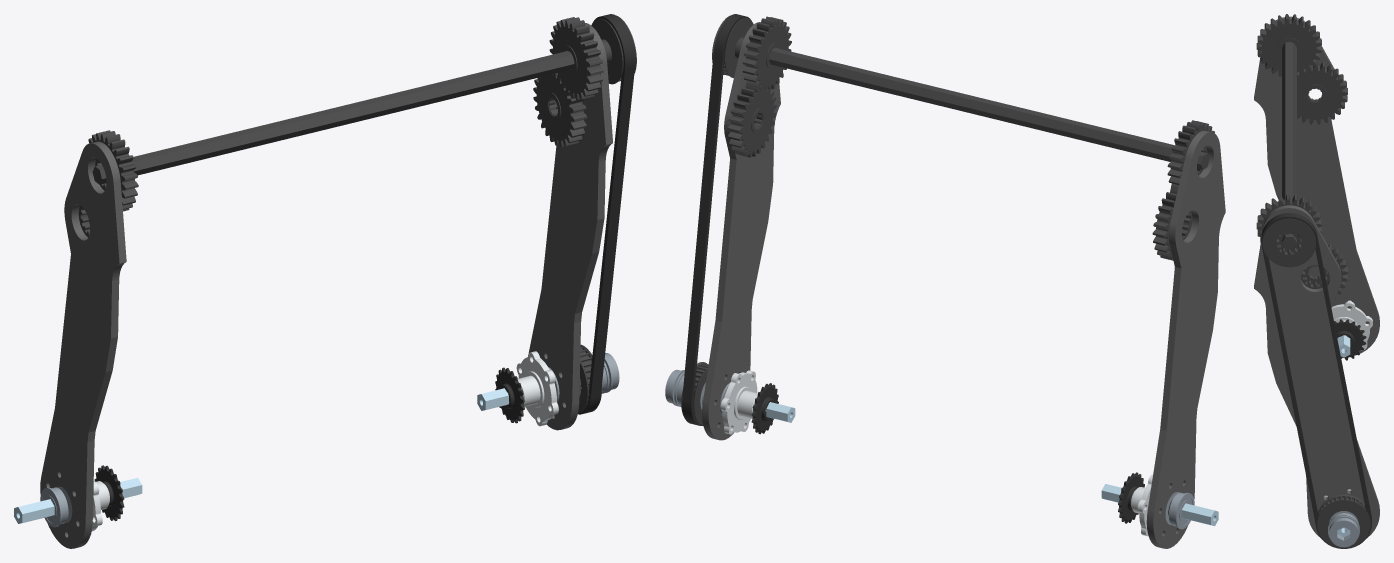
3 views of the same model, side by side, from view 1: azimuth 30°, elevation 25°; view 2: azimuth 150°, elevation 25°; view 3: azimuth 270°, elevation 25° (orthographic). The views are drawn at different scales.
Parts seen in each view (by area): view 1: Part 15, Part 10, 1/2" Hex (18.25 in), Spur gear (25 teeth) (×3), 154t 5mm Belt, am-4124 500 Hex Hub, 20t Aluminum Sprocket (#25, 1/2" Hex Bore, Double Hub) (×2), 32t HTD Pulley 9.53mm Wide, 1/2" Hex (4.188 in), .5" Hex ID 1.125" OD Flanged Bearing (217-2734); view 2: Part 15, Part 10, 1/2" Hex (18.25 in), Spur gear (25 teeth) (×4), 154t 5mm Belt, am-4124 500 Hex Hub (×2), 20t Aluminum Sprocket (#25, 1/2" Hex Bore, Double Hub) (×2), 32t HTD Pulley 9.53mm Wide, 1/2" Hex (4.188 in); view 3: Part 10, Part 15, Spur gear (25 teeth) (×4), 154t 5mm Belt, 32t HTD Pulley 9.53mm Wide (×2), 1/2" Hex (18.25 in), am-4124 500 Hex Hub, .5" Hex ID 1.125" OD Flanged Bearing (217-2734), 20t Aluminum Sprocket (#25, 1/2" Hex Bore, Double Hub), 1/2" Hex (4.188 in).
Part boxes in pixels (x1,y1,x2,y2): Part 15: [40, 141, 126, 548]; Part 10: [528, 23, 612, 430]; 1/2" Hex (18.25 in): [92, 51, 574, 184]; Spur gear (25 teeth) (×3): [88, 17, 603, 211]; 154t 5mm Belt: [578, 14, 635, 414]; am-4124 500 Hex Hub: [516, 351, 558, 426]; 20t Aluminum Sprocket (#25, 1/2" Hex Bore, Double Hub) (×2): [94, 367, 524, 521]; 32t HTD Pulley 9.53mm Wide: [591, 15, 636, 84]; 1/2" Hex (4.188 in): [14, 477, 142, 523]; .5" Hex ID 1.125" OD Flanged Bearing (217-2734): [40, 487, 68, 527]; Part 15: [1146, 130, 1225, 548]; Part 10: [702, 22, 780, 440]; 1/2" Hex (18.25 in): [769, 47, 1209, 169]; Spur gear (25 teeth) (×4): [727, 16, 1214, 260]; 154t 5mm Belt: [682, 14, 751, 425]; am-4124 500 Hex Hub (×2): [720, 370, 1152, 536]; 20t Aluminum Sprocket (#25, 1/2" Hex Bore, Double Hub) (×2): [751, 383, 1144, 523]; 32t HTD Pulley 9.53mm Wide: [712, 16, 753, 78]; 1/2" Hex (4.188 in): [1101, 484, 1218, 526]; Part 10: [1254, 205, 1379, 537]; Part 15: [1254, 16, 1379, 355]; Spur gear (25 teeth) (×4): [1256, 14, 1347, 298]; 154t 5mm Belt: [1261, 213, 1371, 548]; 32t HTD Pulley 9.53mm Wide (×2): [1262, 218, 1370, 548]; 1/2" Hex (18.25 in): [1282, 42, 1296, 248]; am-4124 500 Hex Hub: [1331, 301, 1372, 350]; .5" Hex ID 1.125" OD Flanged Bearing (217-2734): [1328, 516, 1359, 547]; 20t Aluminum Sprocket (#25, 1/2" Hex Bore, Double Hub): [1334, 319, 1366, 360]; 1/2" Hex (4.188 in): [1337, 300, 1350, 357].
Size of the model in its own units: 0.5255 by 0.3669 by 0.1219.
